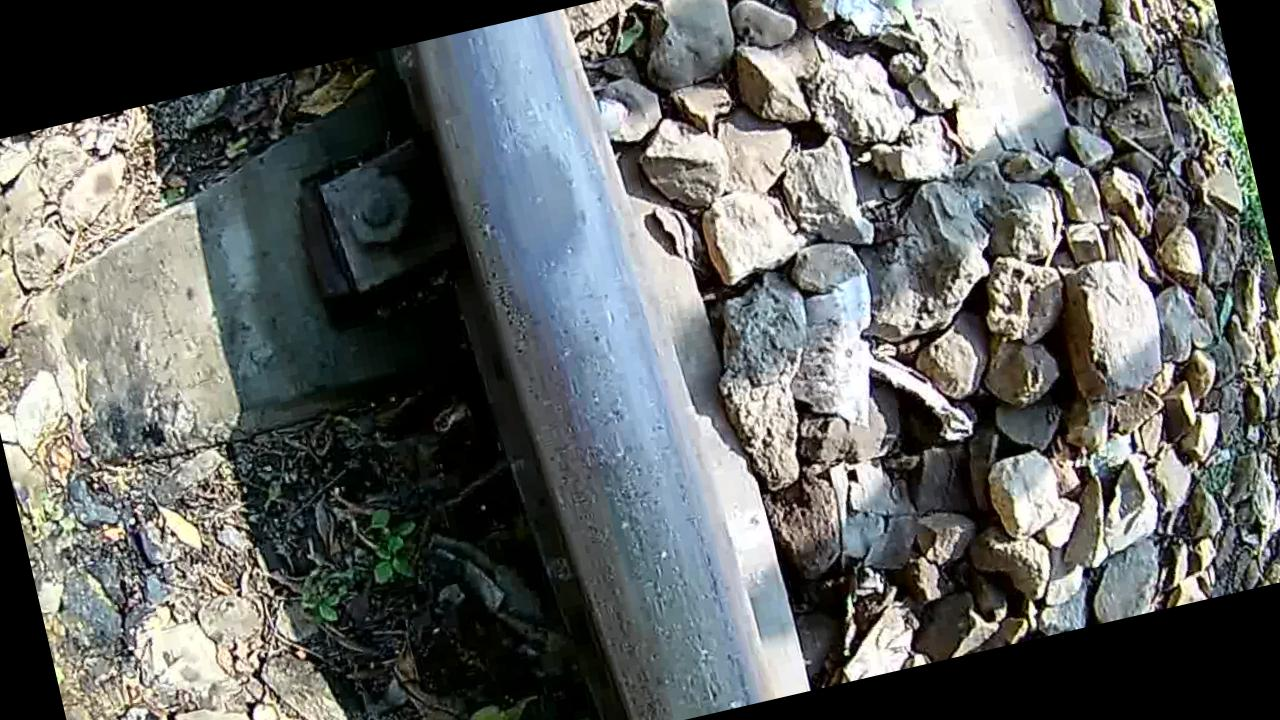bolt_missing: (414, 4, 667, 424)
